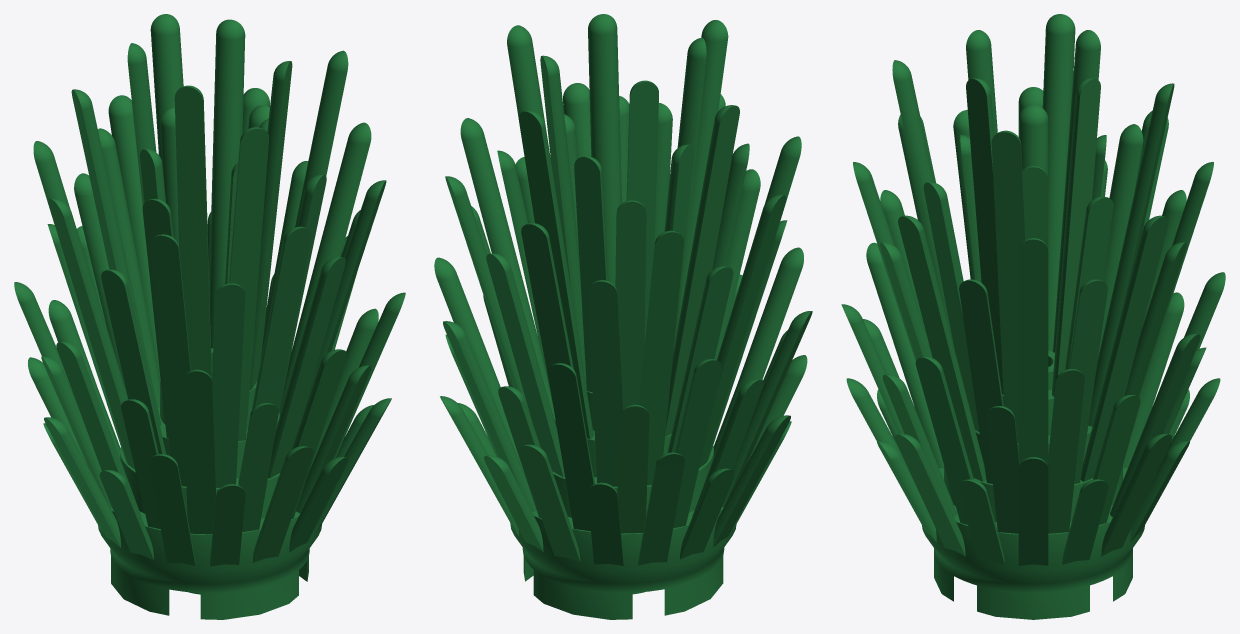
Rendered from grass.dae.
The picture shows the model from 3 angles, left to right: view 1: azimuth 30°, elevation 25°; view 2: azimuth 150°, elevation 25°; view 3: azimuth 270°, elevation 25°; orthographic projection.
Parts seen in each view (by area): view 1: Inner-Node-UntitledModel_dot_io-0; view 2: Inner-Node-UntitledModel_dot_io-0; view 3: Inner-Node-UntitledModel_dot_io-0.
Part boxes in pixels (<box>): Inner-Node-UntitledModel_dot_io-0: <box>14,14,405,619</box>; Inner-Node-UntitledModel_dot_io-0: <box>434,14,812,619</box>; Inner-Node-UntitledModel_dot_io-0: <box>841,14,1225,619</box>.
Bounding box in the file's own units: 77.1 × 116 × 77.1.
